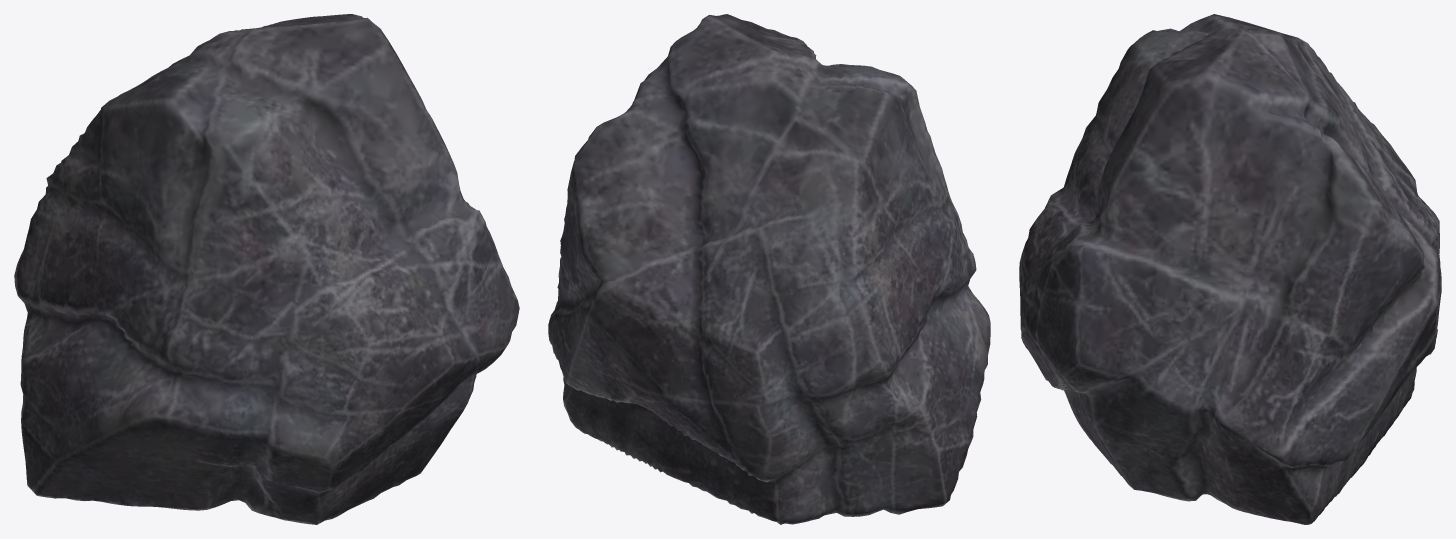
File: rock-boulder-1.glb
3 renders of one model, left to right at view 1: azimuth 30°, elevation 25°; view 2: azimuth 150°, elevation 25°; view 3: azimuth 270°, elevation 25°, orthographic. The views are drawn at different scales.
Parts seen in each view (by area): view 1: defaultMaterial; view 2: defaultMaterial; view 3: defaultMaterial.
Part boxes in pixels (x1,y1,x2,y2): defaultMaterial: [14, 14, 519, 524]; defaultMaterial: [548, 14, 990, 524]; defaultMaterial: [1019, 14, 1441, 524].
Bounding box in the file's own units: 115 × 110 × 101.
1 material, 1 textured.
